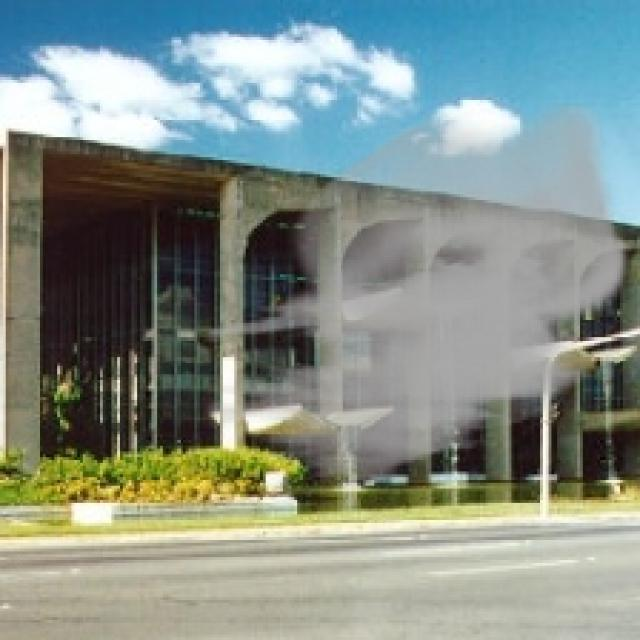smoke: (206, 103, 628, 488)
